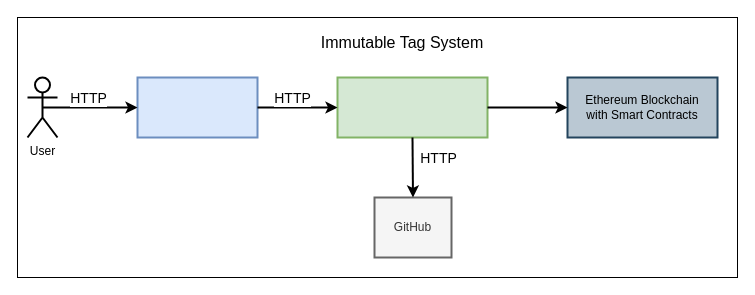
Image size: 755x295. Some labels were removed from this diagram. The shapes that lost their labels are listed below. From the top down, each one's centre as x and y in pixels, then its label:
the point at 197,107: React App (UI)
the point at 412,107: Node.js Application (REST APIs)
